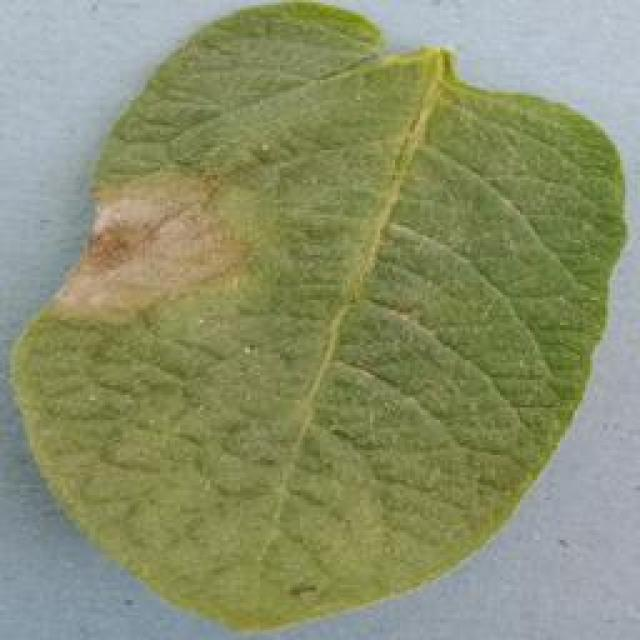Potato_Late_Blight: (19, 10, 623, 620)
